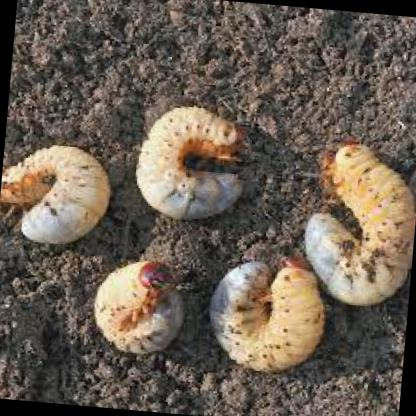root grubs: (308, 145, 416, 309), (207, 257, 323, 375), (134, 109, 248, 220), (2, 146, 108, 244), (93, 260, 186, 351)
